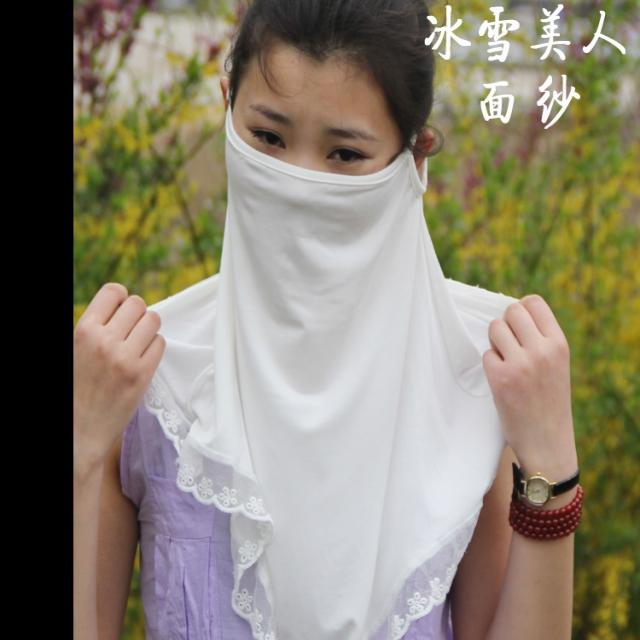mask: (224, 36, 402, 276)
